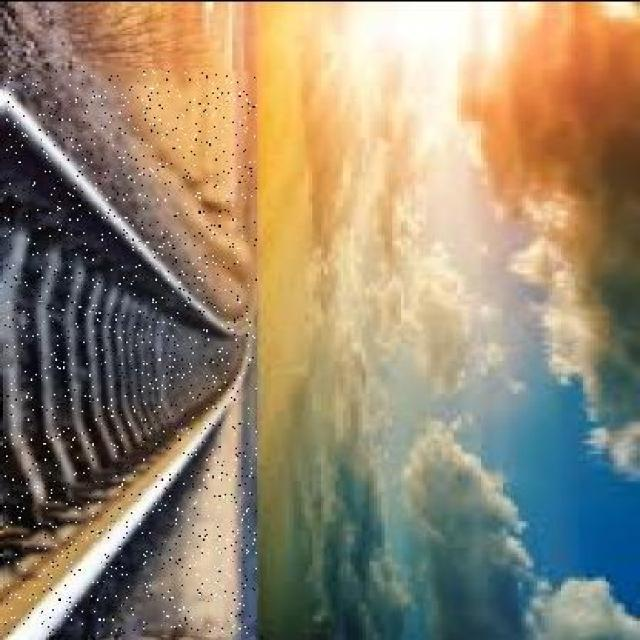rail: (6, 71, 257, 633)
